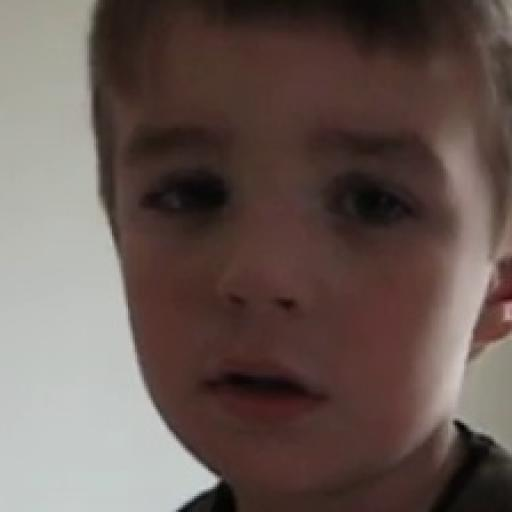Autism: (90, 8, 512, 484)
